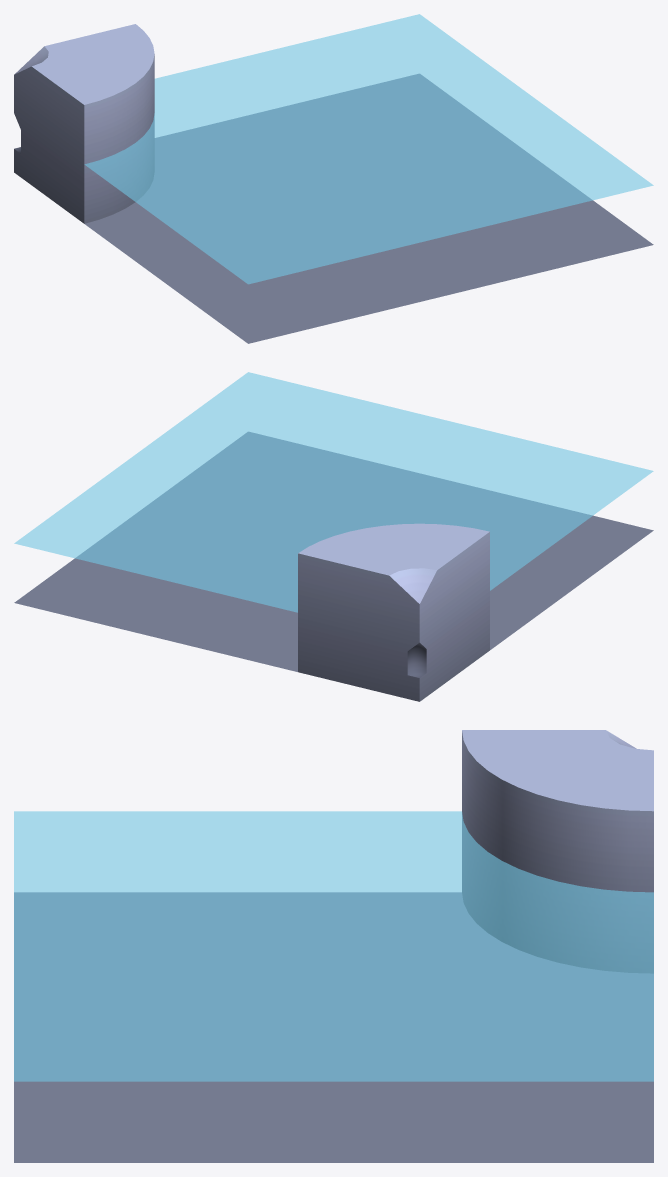
The model's file is fountain-corner-inner.glb.
3 renders of one model, top to bottom at view 1: azimuth 30°, elevation 25°; view 2: azimuth 150°, elevation 25°; view 3: azimuth 270°, elevation 25°, orthographic. The views are drawn at different scales.
Parts seen in each view (by area): view 1: fountain-corner-inner, (%ignore); view 2: fountain-corner-inner, (%ignore); view 3: fountain-corner-inner, (%ignore).
Part boxes in pixels (x1,y1,x2,y2): fountain-corner-inner: (14,24,653,343); (%ignore): (84,14,653,284); fountain-corner-inner: (14,432,653,701); (%ignore): (14,372,653,612); fountain-corner-inner: (14,730,653,1162); (%ignore): (14,811,653,1081).
Size of the model in its own units: 1 by 0.2799 by 1.
Materials: 2 (1 with a texture image).
